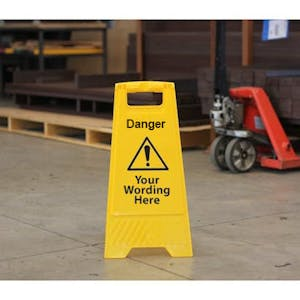wet caution sign: (104, 69, 192, 257)
